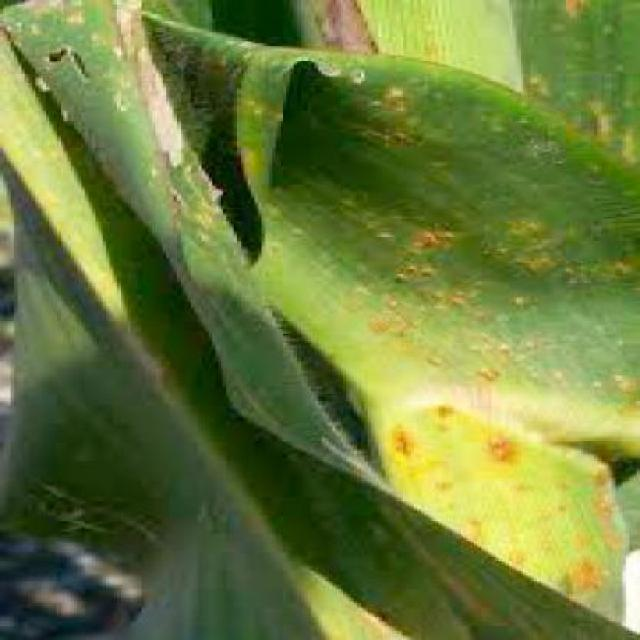Corn_Rust: (315, 37, 640, 601)
